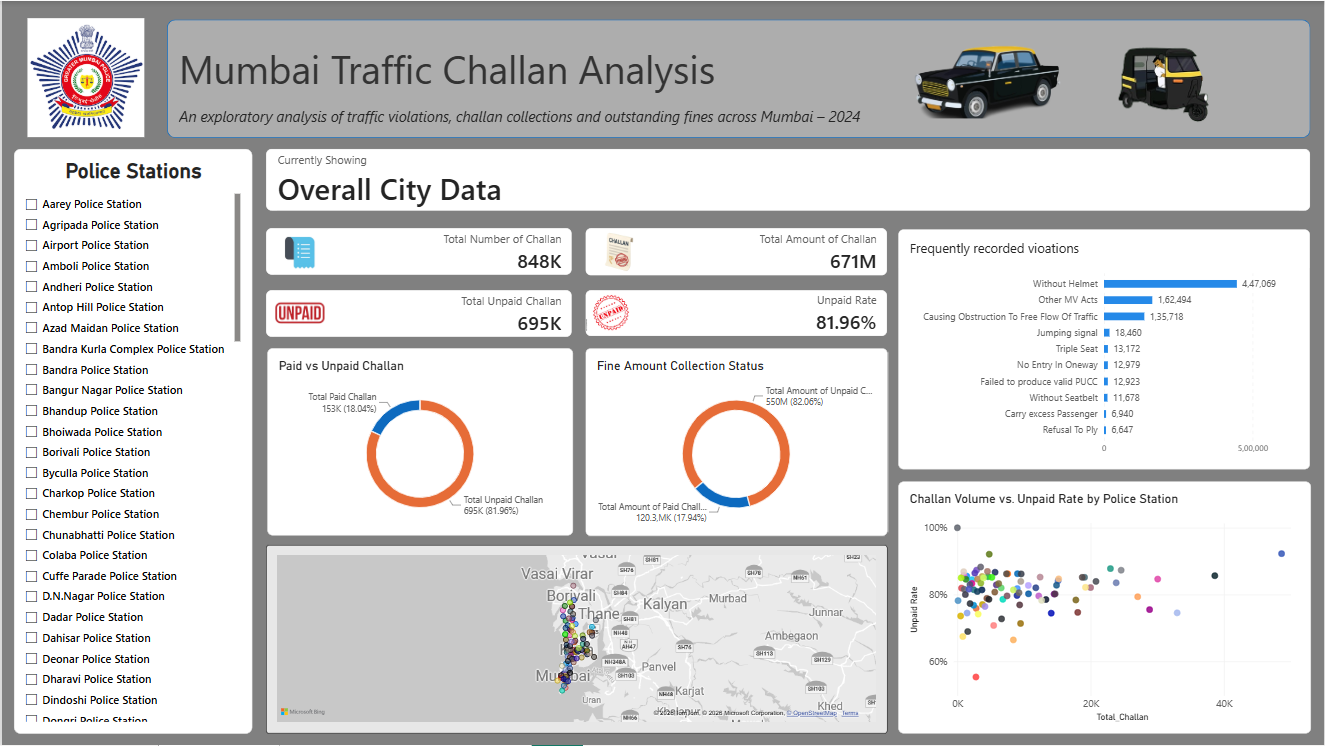

Layout of this report page (visuals, bound fields, positions):
{"tool":"powerbi","page":{"name":"Overview","canvas":[1920,1080],"ordinal":0},"visuals":[{"type":"cardVisual","title":"Total Challan across City","fields":{"Data":["_Measure.Total_number_of_challan"]},"box":[384,330,444,68],"z":0},{"type":"image","box":[17.2,24.9,208.9,172.5],"z":1000},{"type":"map","fields":{"Series":["Location.Traffic_Police_Station"],"X":["Location.Longitude"],"Y":["Location.Latitude"]},"box":[383.3,789.5,902.6,274],"z":2000},{"type":"cardVisual","fields":{"Data":["_Measure.Total Amount of challans"]},"box":[847.5,329.3,438.4,69.2],"z":3000},{"type":"donutChart","title":"Paid vs Unpaid Challan","fields":{"Y":["_Measure.Total Unpaid Challan","_Measure.Total Paid Challan"]},"box":[386,503.5,444,272],"z":4000},{"type":"donutChart","title":"Fine Amount Collection Status","fields":{"Y":["_Measure.Total Amount of Unpaid Challan","_Measure.Total Amount of Paid Challan"]},"box":[847.5,503.5,438.4,272.7],"z":5000},{"type":"listSlicer","title":"Police Stations","fields":{"Values":["Location.Traffic_Police_Station"]},"box":[16.8,214,346.1,849.6],"z":6000},{"type":"shape","box":[240,26,1660,172],"z":7000},{"type":"textbox","box":[256.8,40.2,1464.1,143.7],"z":8000},{"type":"cardVisual","fields":{"Data":["_Measure.Selected Station"]},"box":[383.9,214,1516.6,90.2],"z":9000},{"type":"image","box":[1559.9,51.7,235.7,132.2],"z":10000},{"type":"image","box":[1301.2,65.2,258.7,105.4],"z":11000},{"type":"image","box":[383.3,306.6,97.7,113.1],"z":12000},{"type":"image","box":[847,331.5,97.7,65.2],"z":13000},{"type":"scatterChart","title":"Challan Volume vs. Unpaid Rate by Police Station","fields":{"Series":["Fines.Traffic_Police_Station"],"X":["Fines.Total_Challan"],"Y":["_Measure.Unpaid Rate"]},"box":[1301,698,599,366],"z":14000},{"type":"cardVisual","title":"Total Challan across City","fields":{"Data":["_Measure.Total Unpaid Challan"]},"box":[383.9,419.5,444,68],"z":15000},{"type":"cardVisual","fields":{"Data":["_Measure.Unpaid Rate"]},"box":[847.5,419.5,438.4,67.1],"z":16000},{"type":"image","box":[383.9,375.5,98.6,155.2],"z":17000},{"type":"image","box":[847,401,74.3,103.6],"z":18000},{"type":"clusteredBarChart","title":"Frequently recorded vioations","fields":{"Category":["Violation.Violation"],"Y":["_Measure.Total Violation Cases"]},"box":[1300.6,331.4,597.8,348.2],"z":19000}]}

Visuals, with their boxes in screenshot pixels (x1, y1, x2, y2), scaled from the page's 1920x1080 canvas onto the 1325x746 screenshot:
"Total Challan across City" cardVisual: locate(265, 228, 571, 275)
image: locate(12, 17, 156, 136)
map - Location.Traffic_Police_Station x Location.Longitude: locate(265, 545, 887, 735)
cardVisual - _Measure.Total Amount of challans: locate(585, 227, 887, 275)
"Paid vs Unpaid Challan" donutChart: locate(266, 348, 573, 536)
"Fine Amount Collection Status" donutChart: locate(585, 348, 887, 536)
"Police Stations" listSlicer: locate(12, 148, 250, 735)
shape: locate(166, 18, 1311, 137)
textbox: locate(177, 28, 1188, 127)
cardVisual - _Measure.Selected Station: locate(265, 148, 1312, 210)
image: locate(1076, 36, 1239, 127)
image: locate(898, 45, 1076, 118)
image: locate(265, 212, 332, 290)
image: locate(585, 229, 652, 274)
"Challan Volume vs. Unpaid Rate by Police Station" scatterChart: locate(898, 482, 1311, 735)
"Total Challan across City" cardVisual: locate(265, 290, 571, 337)
cardVisual - _Measure.Unpaid Rate: locate(585, 290, 887, 336)
image: locate(265, 259, 333, 367)
image: locate(585, 277, 636, 349)
"Frequently recorded vioations" clusteredBarChart: locate(898, 229, 1310, 469)
